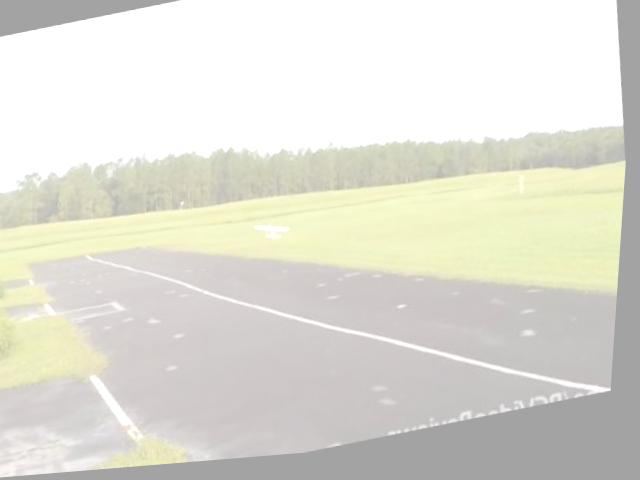uav: (251, 217, 297, 253)
